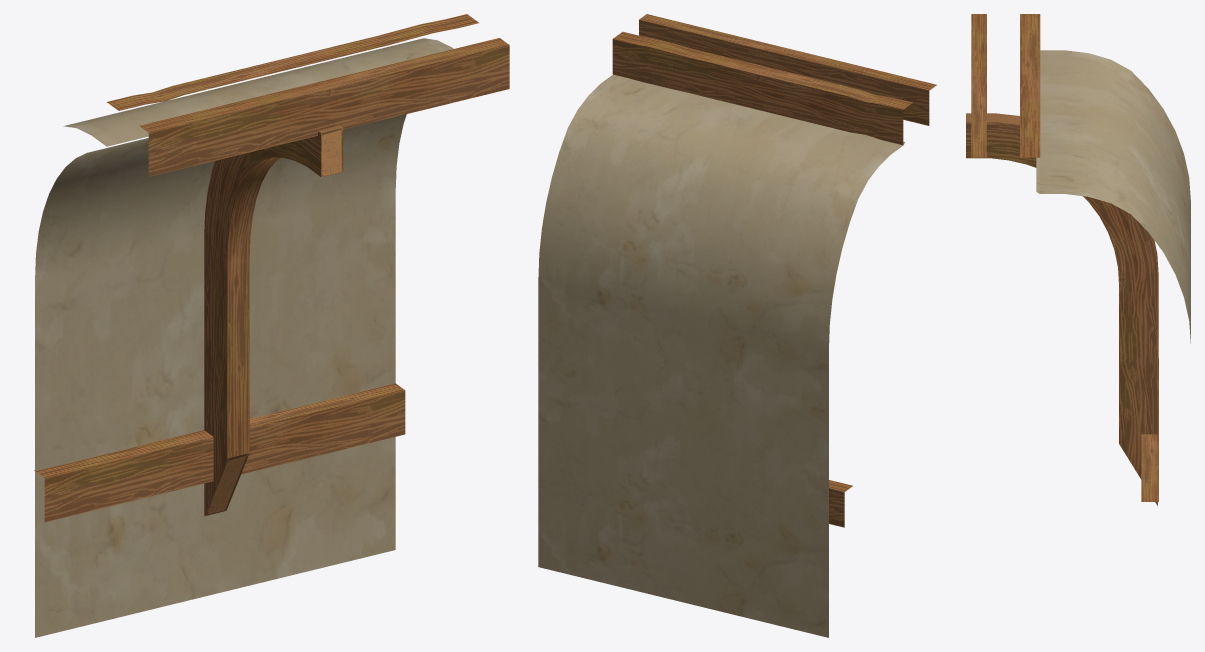
File: overhang-plaster-short.glb
3 renders of one model, left to right at view 1: azimuth 30°, elevation 25°; view 2: azimuth 150°, elevation 25°; view 3: azimuth 270°, elevation 25°, orthographic. The views are drawn at different scales.
Visible parts, largest first — view 1: Overhang_Plaster_Short; view 2: Overhang_Plaster_Short; view 3: Overhang_Plaster_Short.
Part boxes in pixels (bbox=[...]): Overhang_Plaster_Short: bbox=[34, 14, 509, 637]; Overhang_Plaster_Short: bbox=[538, 14, 936, 637]; Overhang_Plaster_Short: bbox=[966, 14, 1190, 505].
Bounding box in the file's own units: 2 × 3.12 × 1.32.
Materials: 2 (2 with a texture image).
